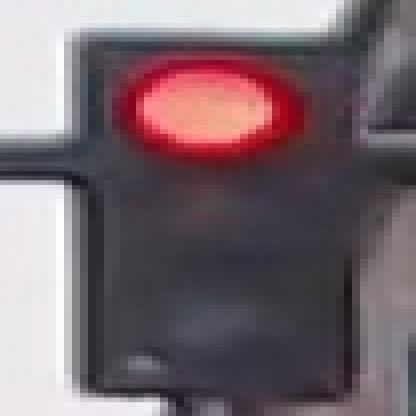Red Light: (71, 26, 363, 399)
